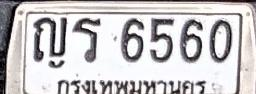0: (208, 18, 232, 64)
5: (149, 18, 174, 62)
6: (179, 18, 203, 63), (120, 18, 144, 62)
A13: (32, 16, 68, 63)
A35: (72, 17, 101, 63)
BKK: (53, 74, 208, 94)
